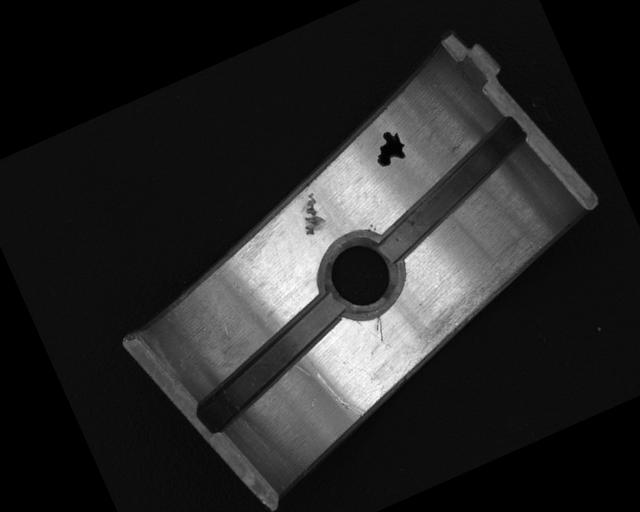blot: (368, 127, 410, 169)
bruise: (292, 192, 330, 238)
gap: (356, 115, 550, 264), (178, 293, 364, 432)
hole: (310, 223, 413, 328)
nick: (313, 361, 366, 427), (370, 313, 392, 343)
scratch: (399, 239, 563, 355)
